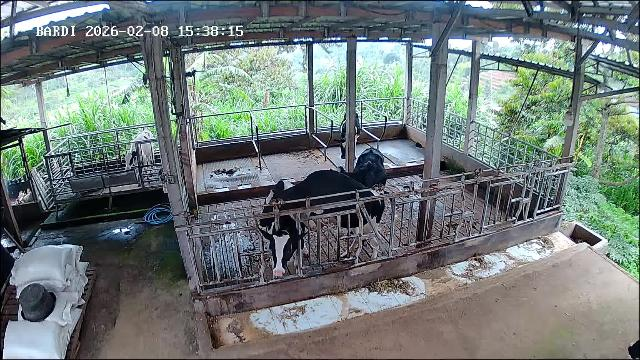mounting: (256, 169, 382, 263)
